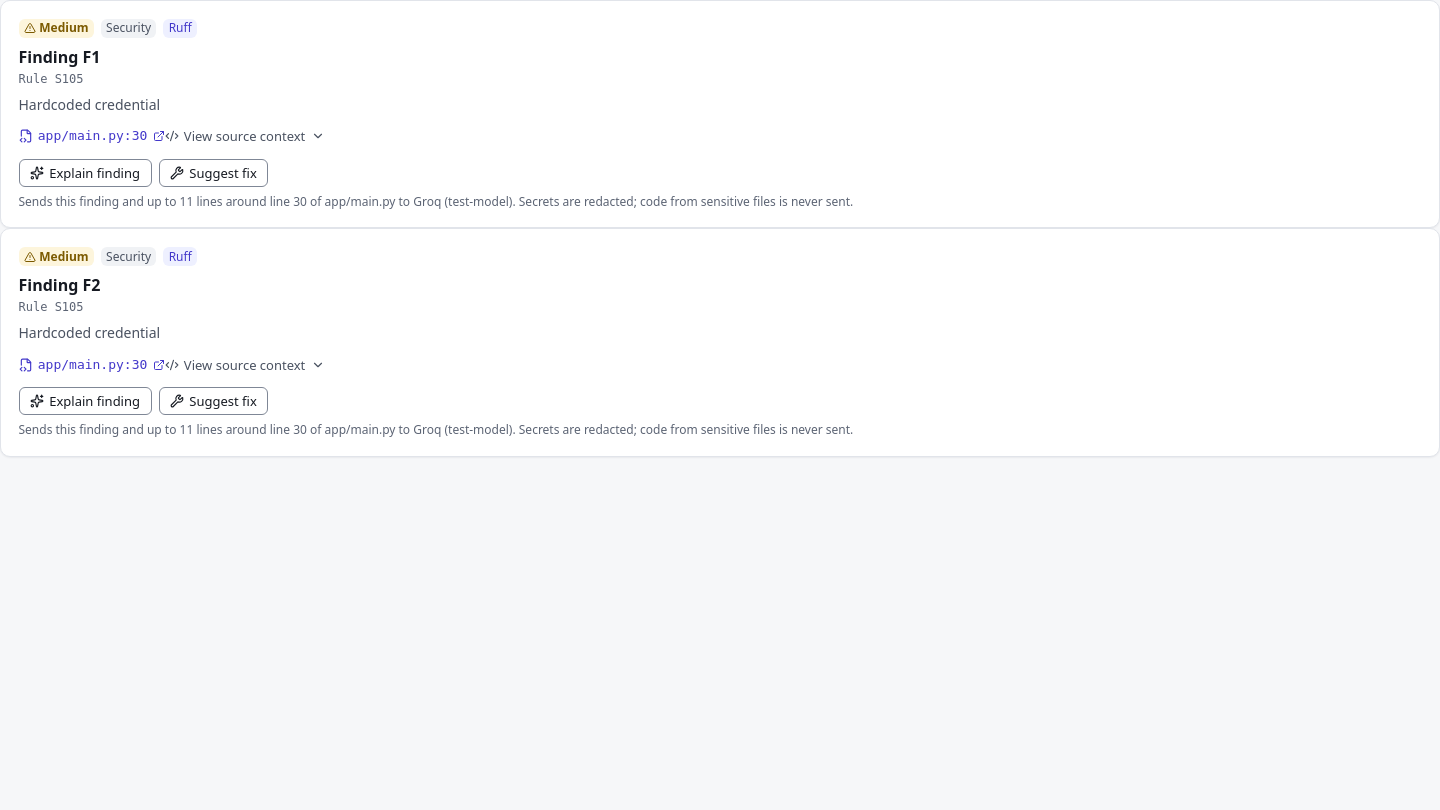
Test: finding AI (B5) › never shows one finding’s answer on another
Click the button "Explain finding" below "Finding F1".
click(85, 173)  # box [18, 159, 152, 187]
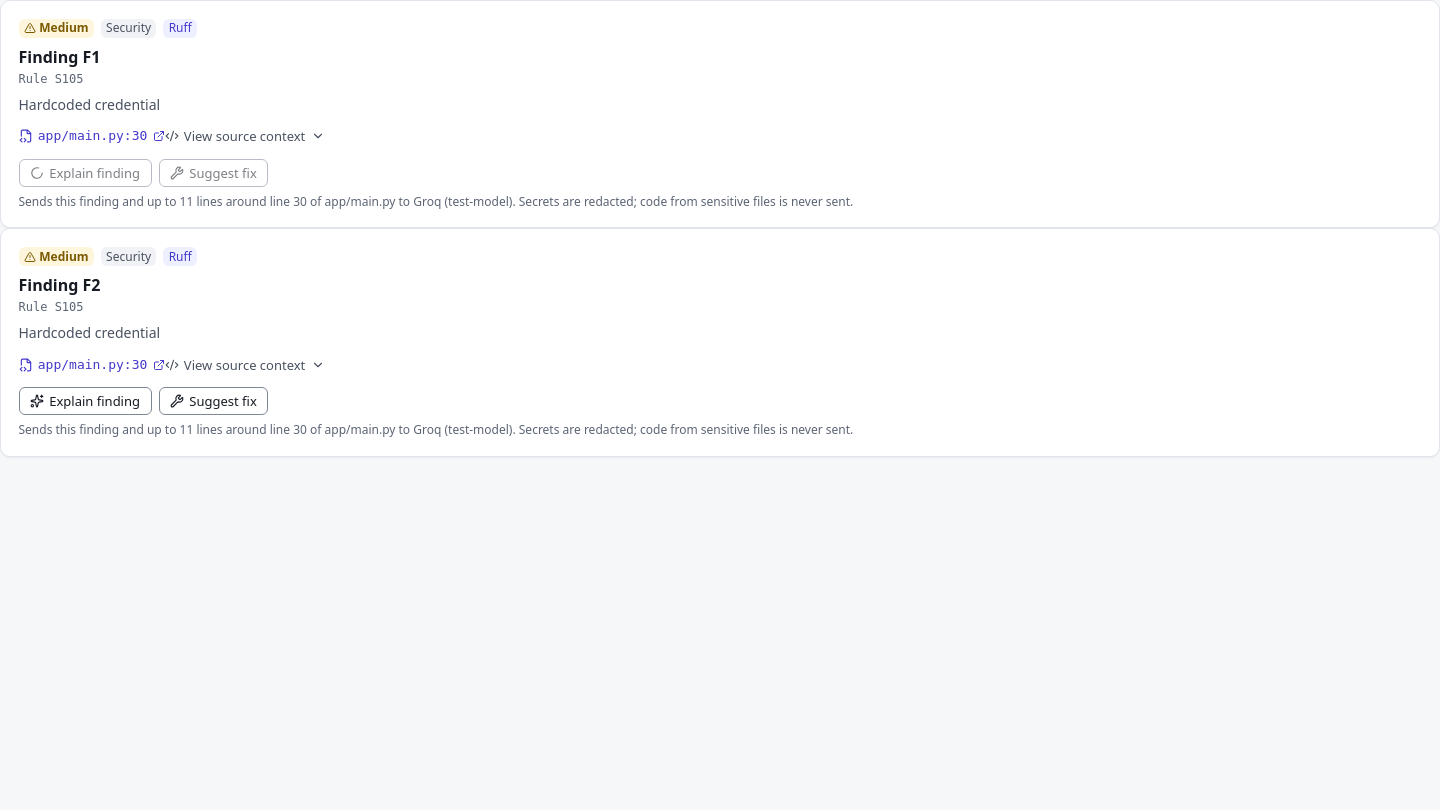
Click the button "Explain finding" below "Finding F2".
click(85, 401)  # box [18, 387, 152, 415]
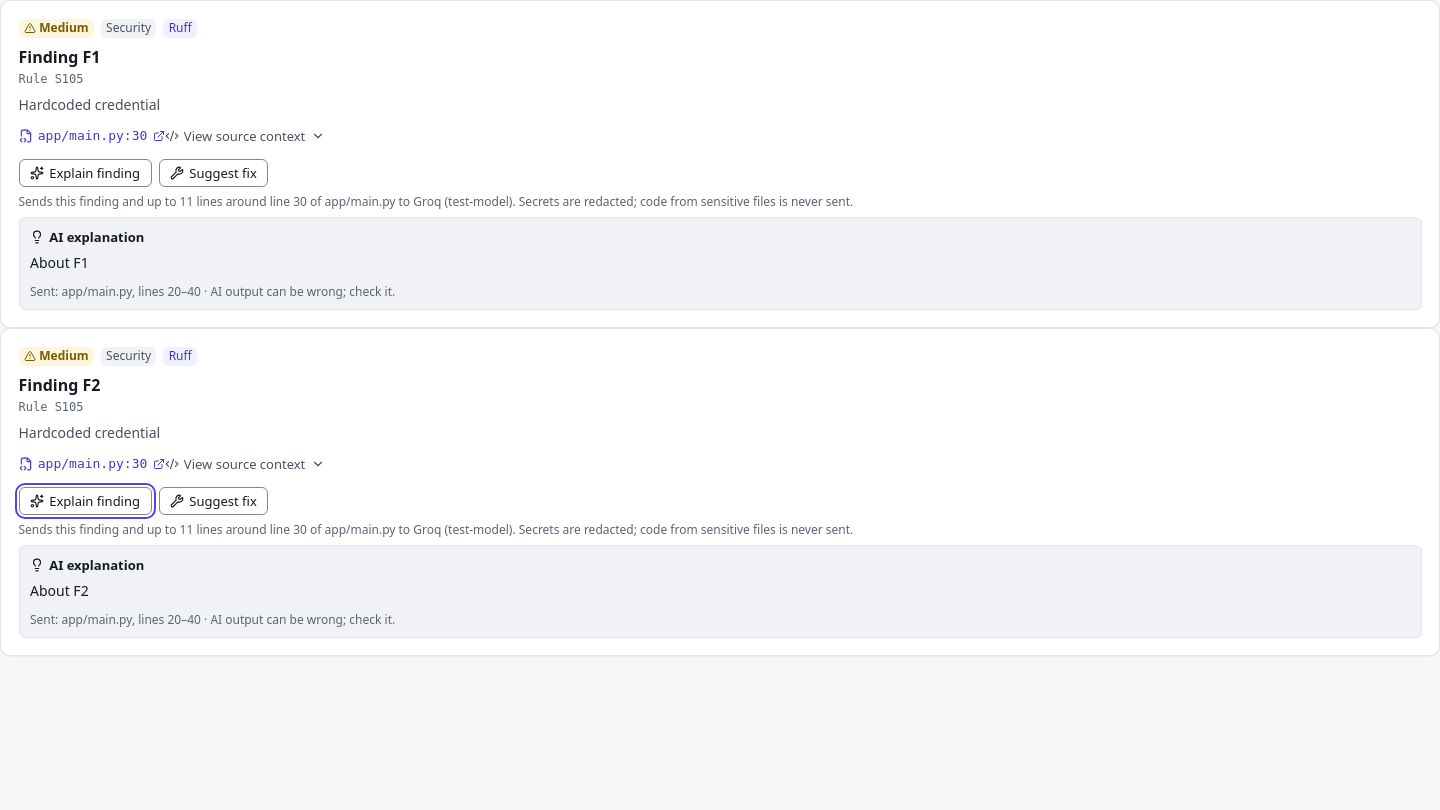
Check: the text "About F2" is shown, box [30, 581, 89, 600]
Check: the text "About F1" is shown, box [30, 253, 89, 272]
